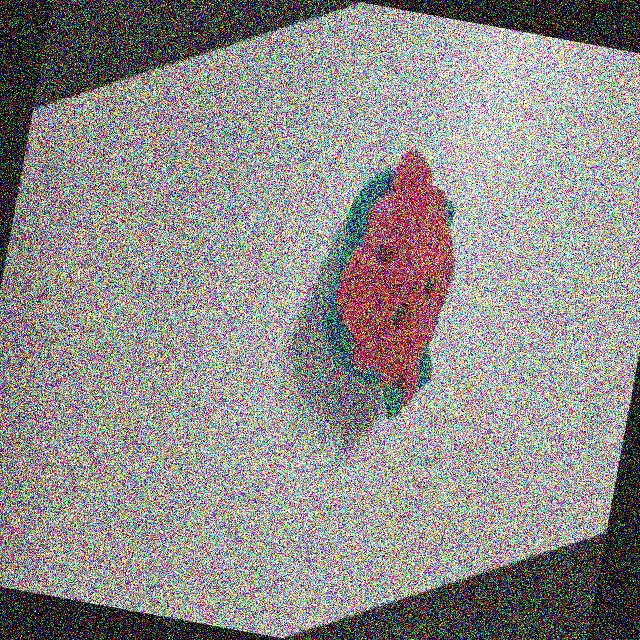House: (269, 58, 514, 480)
